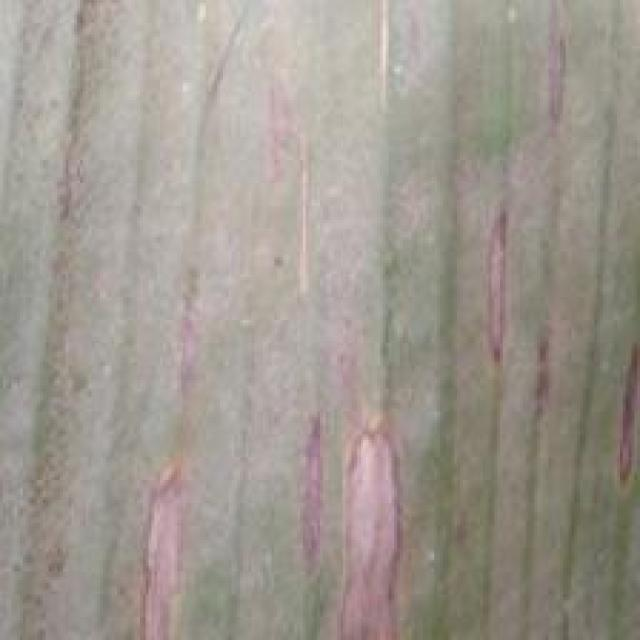Early_leaf_spot: (291, 386, 436, 640), (115, 420, 202, 640), (255, 69, 328, 282), (463, 196, 527, 374), (152, 259, 232, 392), (597, 320, 640, 485), (542, 8, 577, 118)
